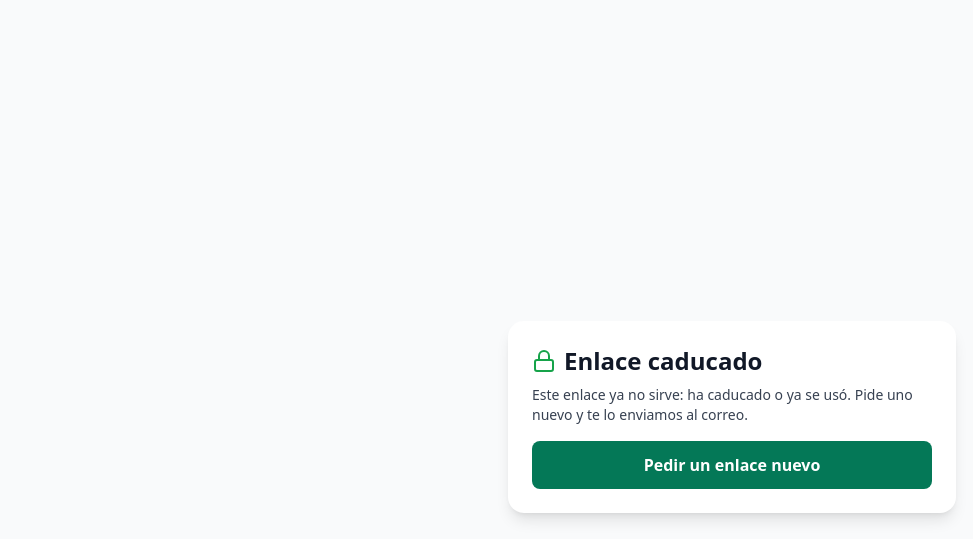
Test: ResetPassword (QA-040: clara, y dice de qué cuenta es) › con el enlace caducado o ya usado, lo dice y lleva a pedir otro (no un formulario muerto)
expect the text "Este enlace ya no sirve" is shown: met, box [532,385,913,424]
Click the button "Pedir un enlace nuevo". click: point(732, 465)
box: [532,441,932,489]
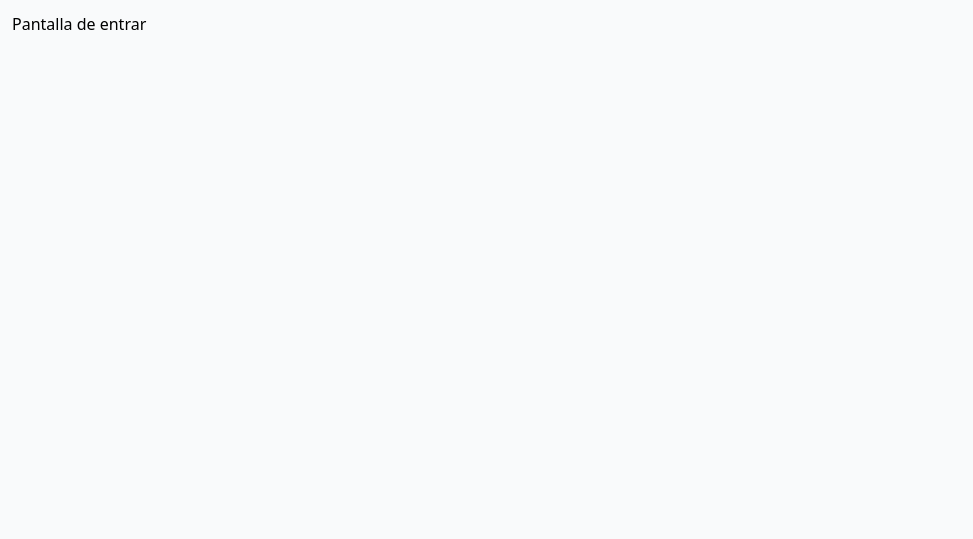
expect the text "Pantalla de entrar" is shown: met, box [12,13,146,35]
